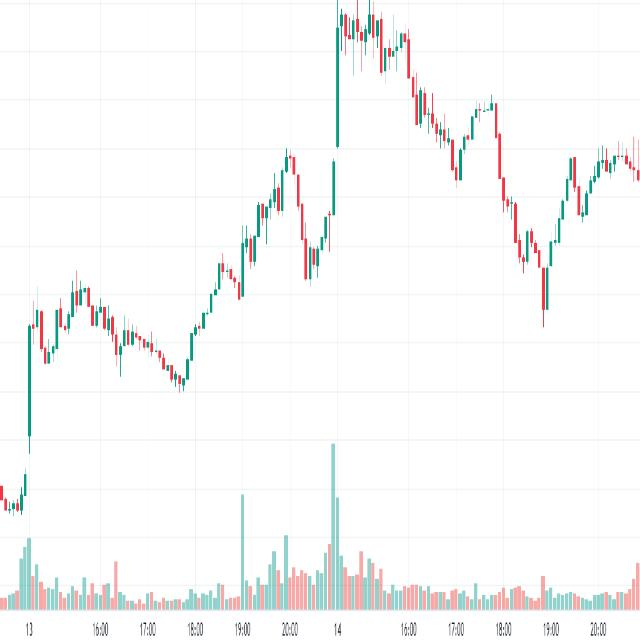Ascending-Triangle: (489, 145, 640, 414)
Channel-down: (306, 0, 570, 326)
